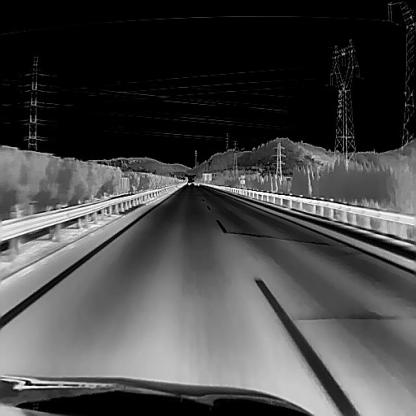truck: (194, 174, 199, 184)
